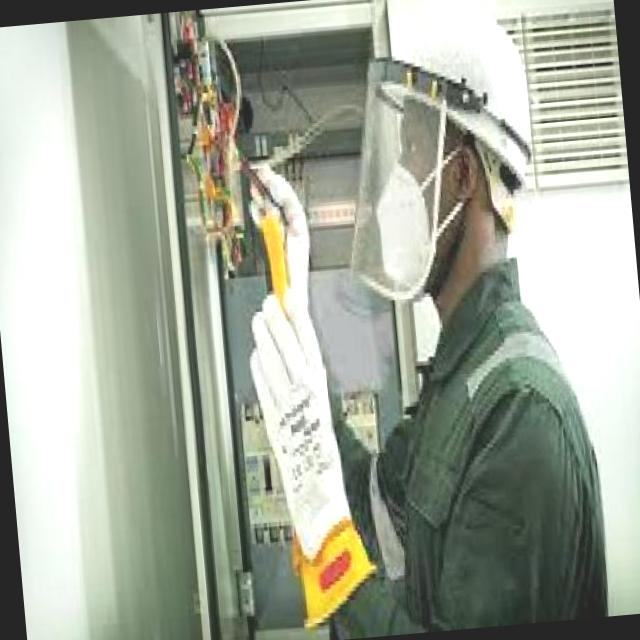gloves: (228, 272, 390, 620), (233, 142, 334, 342)
helmet: (329, 0, 538, 204)
vest: (378, 296, 610, 634)
